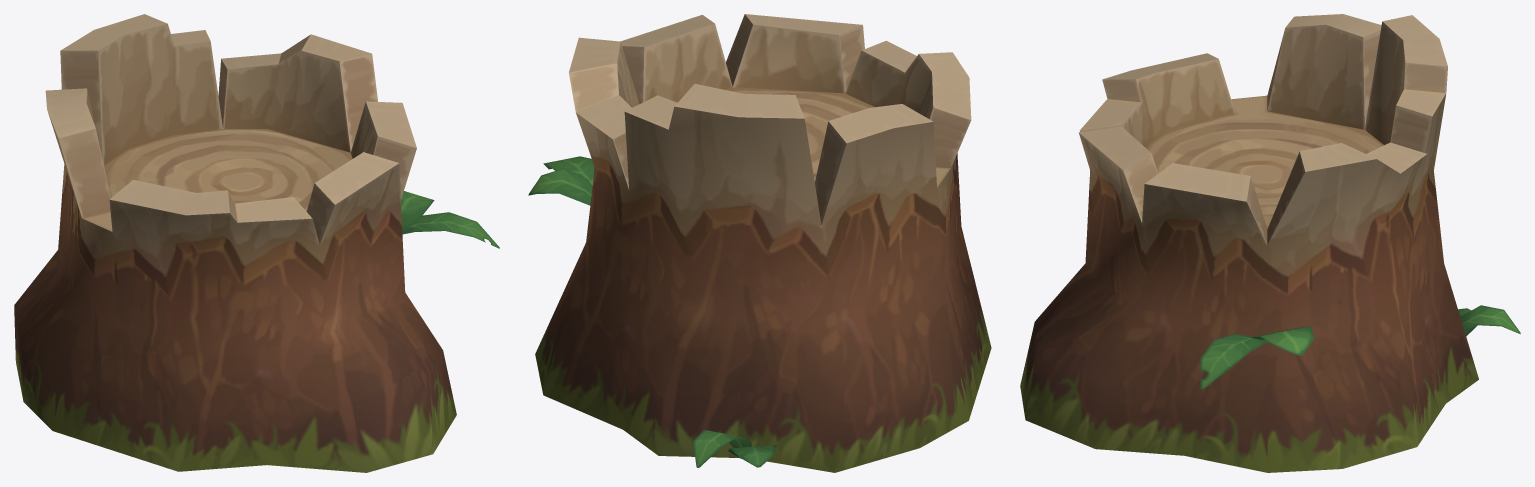
File: Na_Stump_02.FBX
The picture shows the model from 3 angles, left to right: view 1: azimuth 30°, elevation 25°; view 2: azimuth 150°, elevation 25°; view 3: azimuth 270°, elevation 25°; orthographic projection. The views are drawn at different scales.
Parts seen in each view (by area): view 1: Na_Stump_02; view 2: Na_Stump_02; view 3: Na_Stump_02.
Boxes of the visible parts, <box> form: Na_Stump_02: <box>14,14,499,472</box>; Na_Stump_02: <box>528,14,991,472</box>; Na_Stump_02: <box>1020,14,1520,472</box>.
Size of the model in its own units: 1.74 by 1.26 by 1.78.
Materials: 1 (1 with a texture image).
